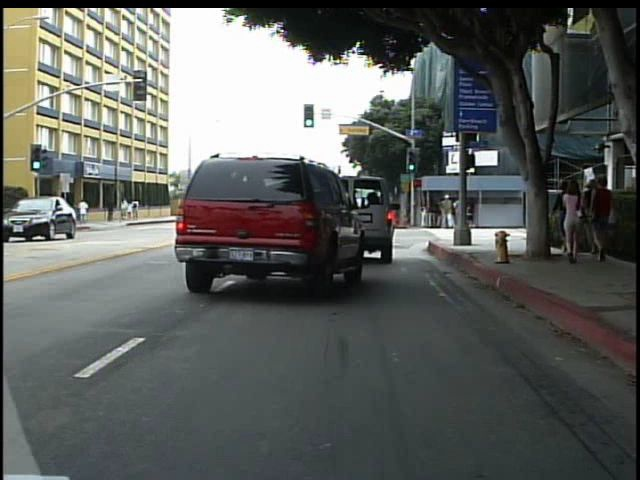person: (586, 176, 618, 268), (555, 178, 586, 270), (438, 190, 455, 233), (77, 197, 93, 226)
